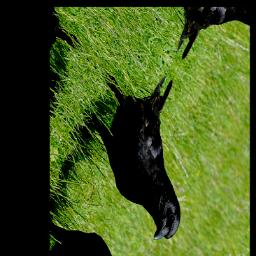Crow: (69, 31, 224, 256)
